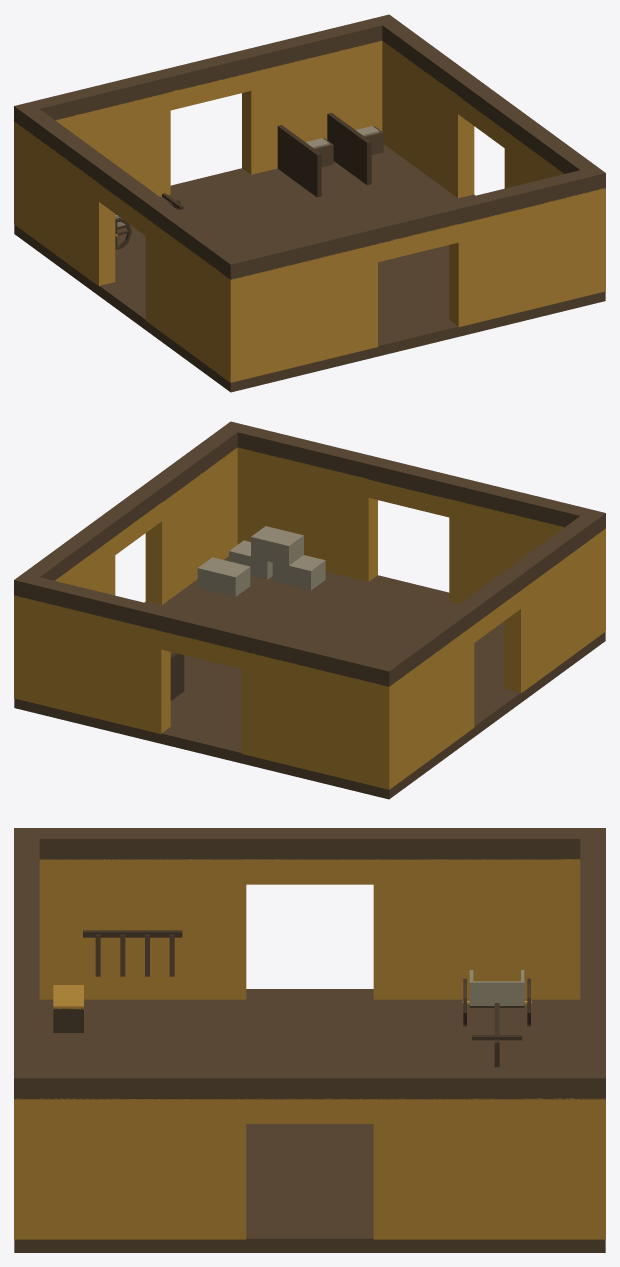
Rendered from BronzeChariotShed.fbx.
3 views of the same model, one above another, from view 1: azimuth 30°, elevation 25°; view 2: azimuth 150°, elevation 25°; view 3: azimuth 270°, elevation 25° (orthographic). The views are drawn at different scales.
Parts seen in each view (by area): view 1: BronzeChariotShed; view 2: BronzeChariotShed; view 3: BronzeChariotShed.
Boxes of the visible parts, x1,y1,x2,y2 form: BronzeChariotShed: [14, 14, 605, 392]; BronzeChariotShed: [14, 421, 605, 799]; BronzeChariotShed: [14, 828, 605, 1252].
Size of the model in its own units: 1202 by 392 by 1202.
4 materials, 4 textured.
